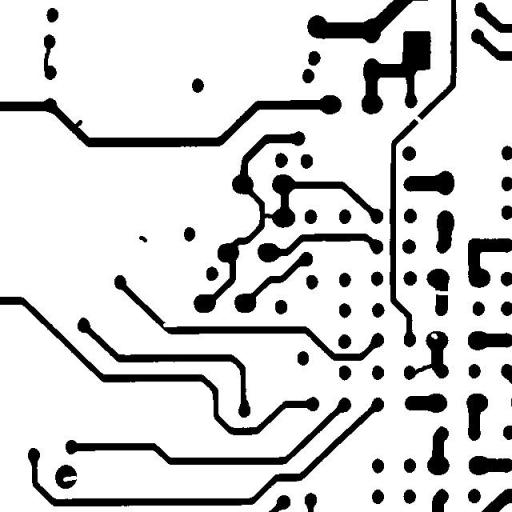copper: (132, 228, 154, 250)
mousebite: (55, 468, 84, 489), (155, 316, 185, 334)
open: (404, 104, 430, 134), (426, 282, 458, 302)
pin-hole: (423, 326, 445, 346)
short: (402, 354, 445, 383), (36, 34, 61, 79), (256, 206, 282, 226)
spur: (64, 112, 90, 136)
